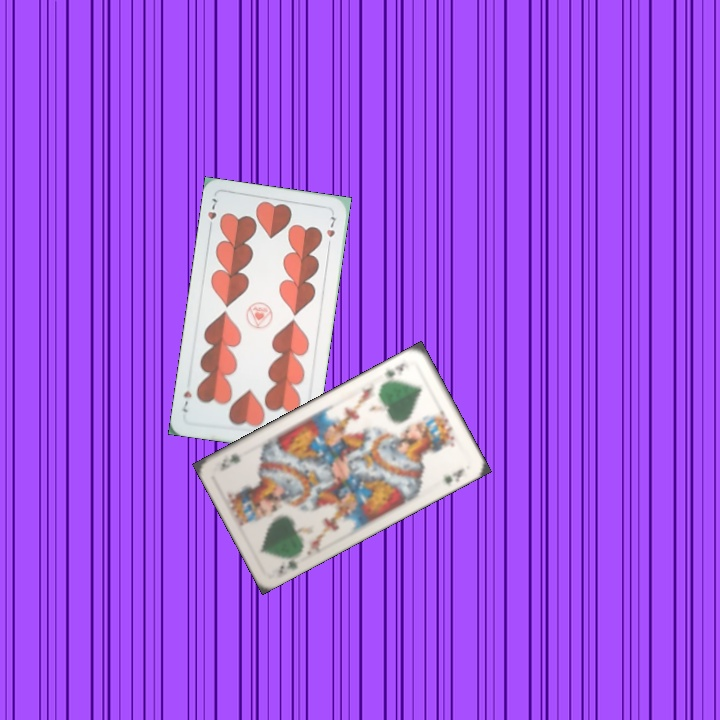GK: (380, 359, 412, 381), (275, 556, 300, 576)
H7: (203, 194, 220, 233)
